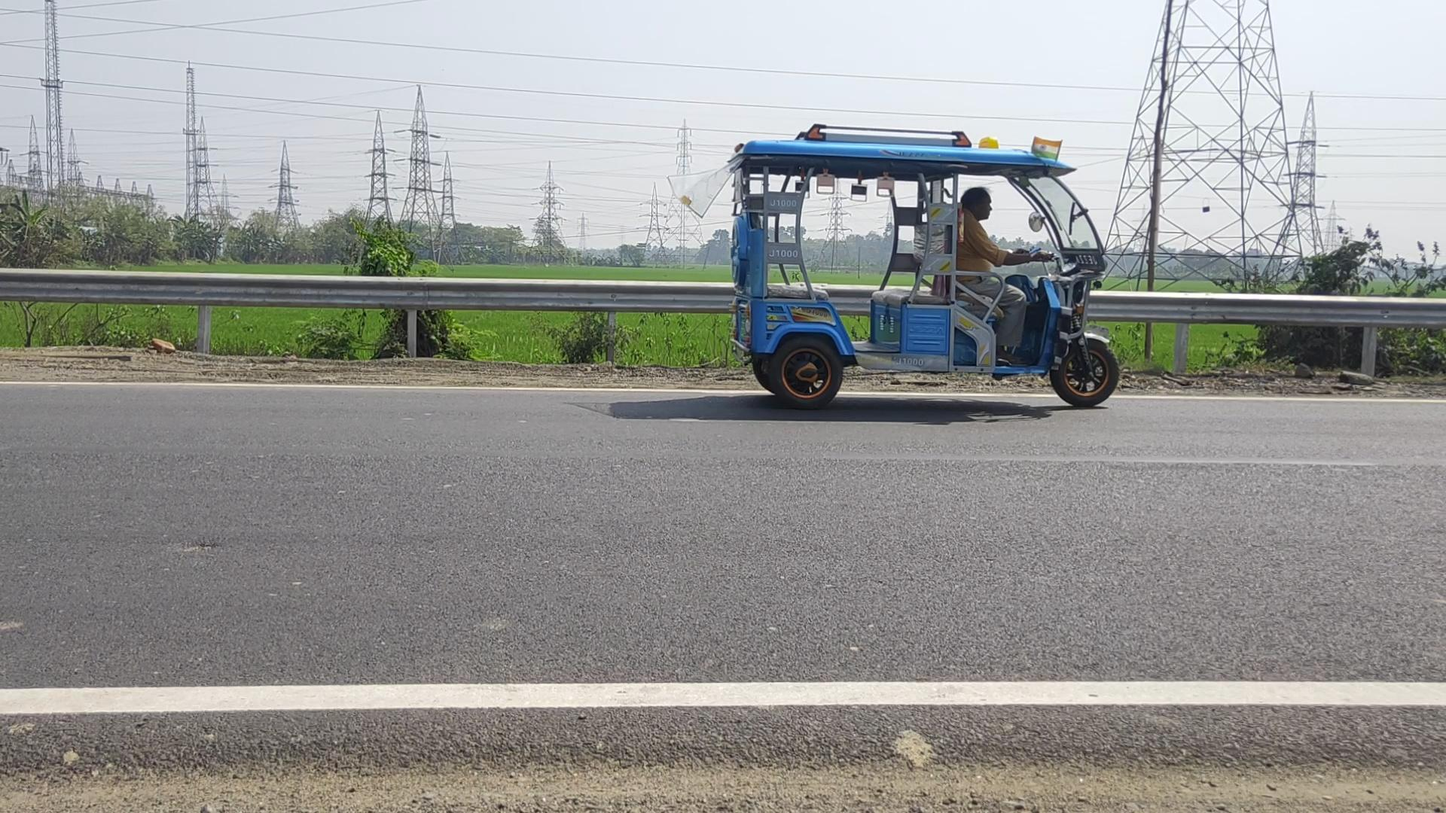Auto: (724, 124, 1120, 412)
